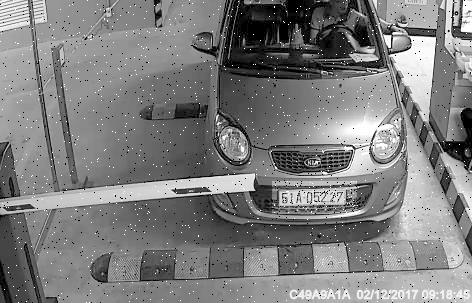License-plate: (273, 182, 358, 215)
